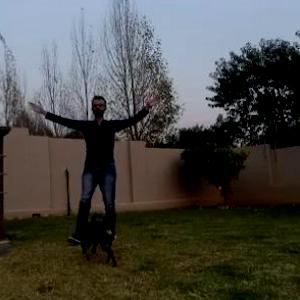takeoff: (1, 78, 153, 259)
